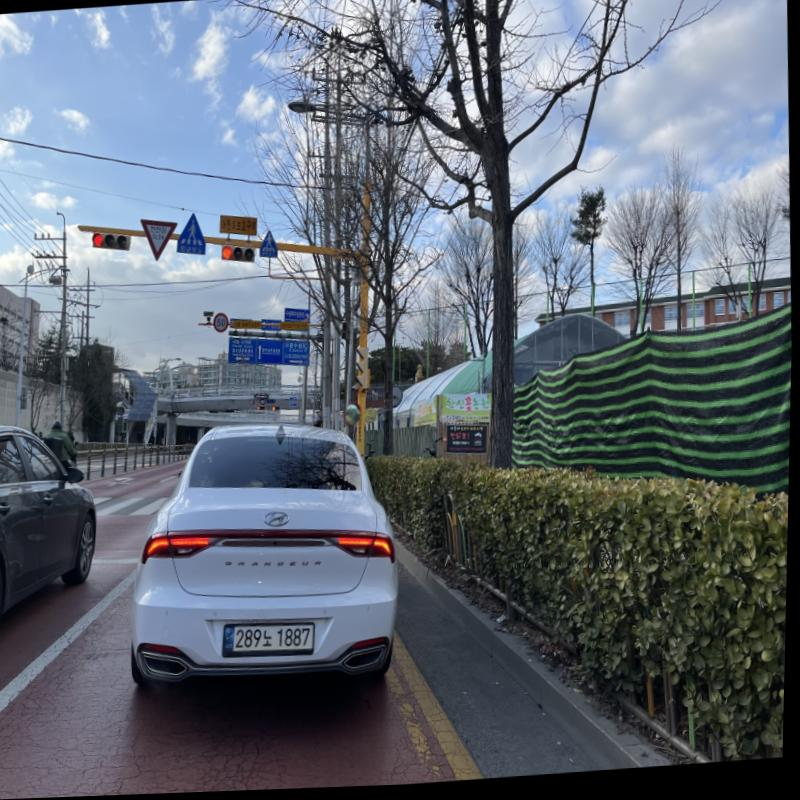red: (94, 234, 107, 248), (223, 248, 233, 262)
